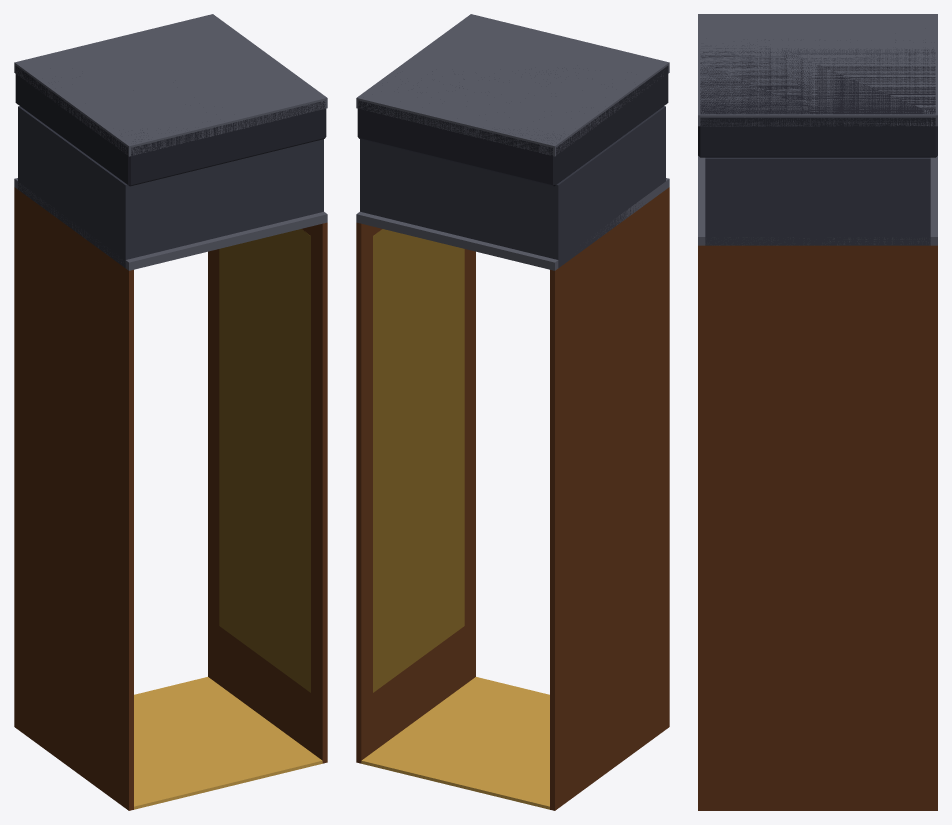
File: door_frame.glb
3 views of the same model, side by side, from view 1: azimuth 30°, elevation 25°; view 2: azimuth 150°, elevation 25°; view 3: azimuth 270°, elevation 25° (orthographic). The views are drawn at different scales.
Visible parts, largest first — view 1: door_frame; view 2: door_frame; view 3: door_frame.
Part boxes in pixels (x1,y1,x2,y2): door_frame: [14, 14, 327, 810]; door_frame: [356, 14, 669, 810]; door_frame: [698, 14, 937, 810].
Size of the model in its own units: 1 by 3.2 by 1.
